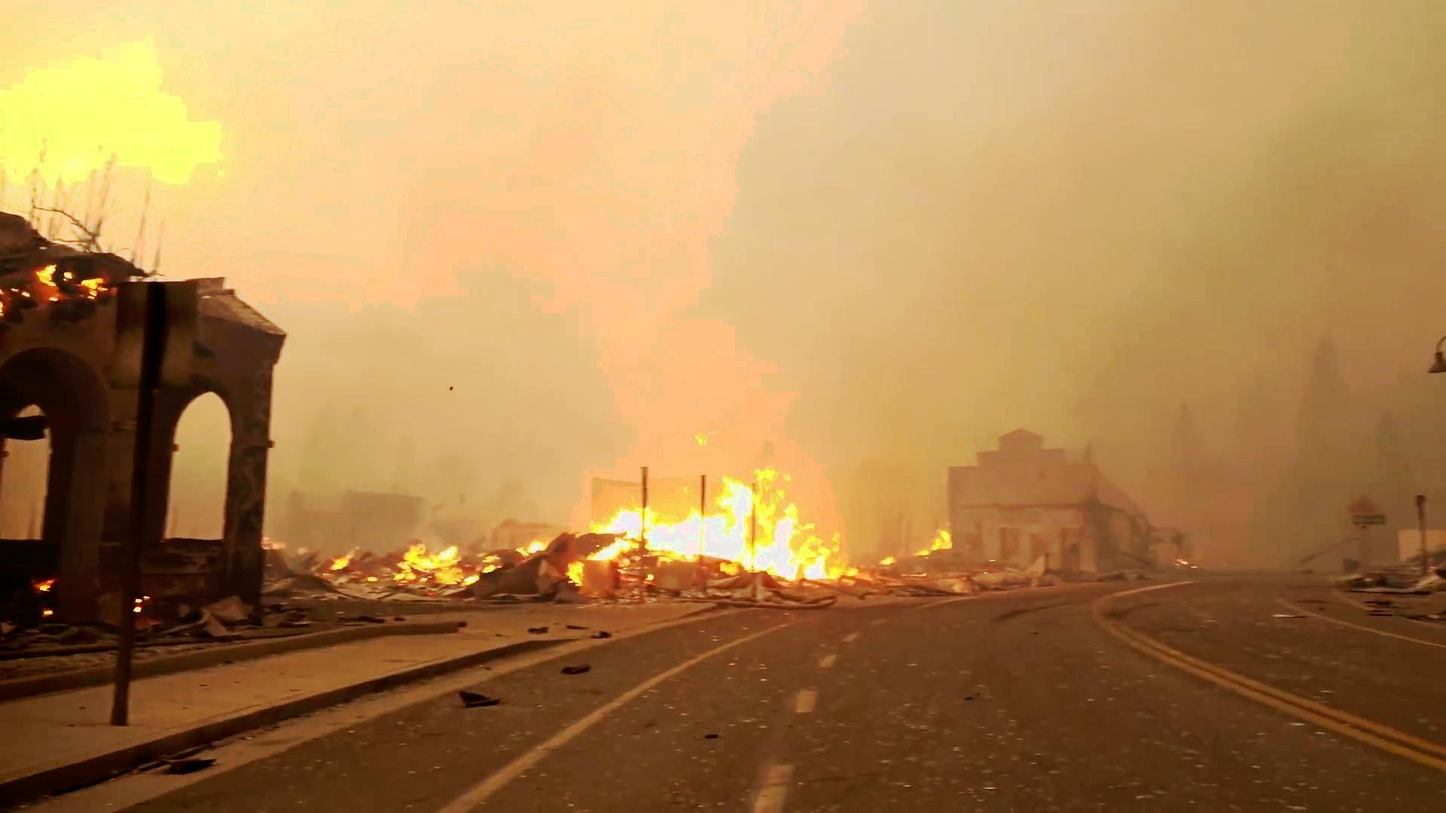fire: (624, 454, 850, 569)
smoke: (921, 0, 1446, 360)
